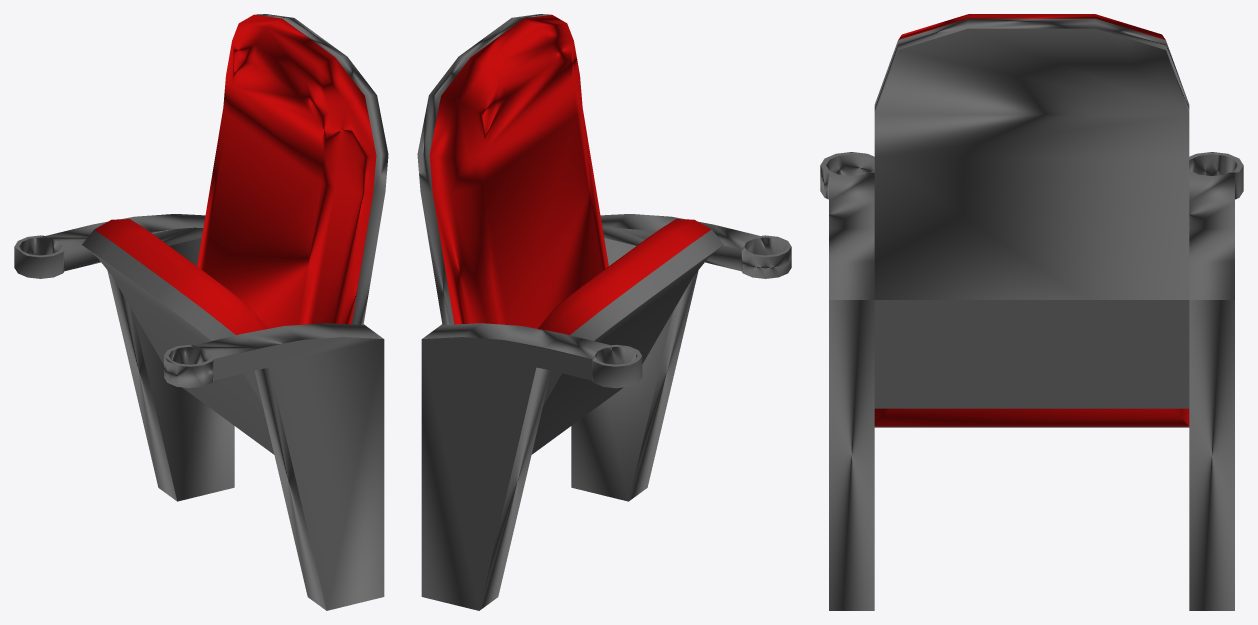
The model's file is low-poly-stadium-sports-arena-seats-6bbe4c.glb.
The picture shows the model from 3 angles, left to right: view 1: azimuth 30°, elevation 25°; view 2: azimuth 150°, elevation 25°; view 3: azimuth 270°, elevation 25°; orthographic projection. The views are drawn at different scales.
Visible parts, largest first — view 1: PropMesh; view 2: PropMesh; view 3: PropMesh.
Boxes of the visible parts, x1,y1,x2,y2 form: PropMesh: [14, 14, 388, 610]; PropMesh: [417, 14, 791, 610]; PropMesh: [820, 14, 1243, 610].
Size of the model in its own units: 0.4631 by 0.95 by 0.61.
